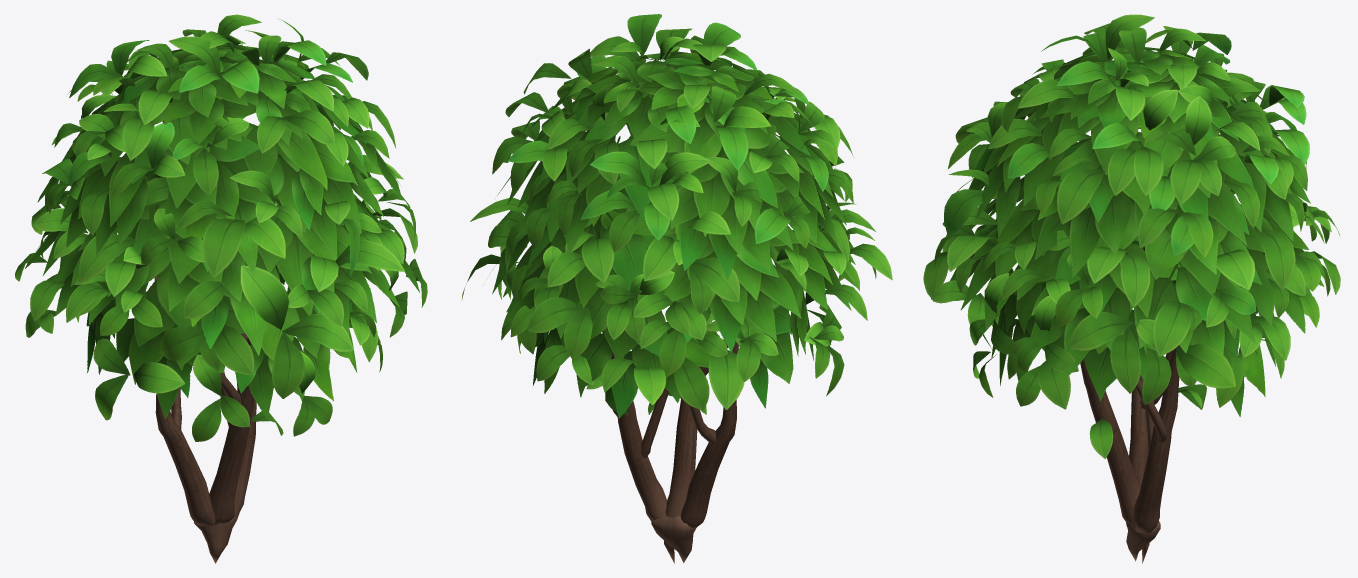
File: SE_Lilac_02c.fbx
3 renders of one model, left to right at view 1: azimuth 30°, elevation 25°; view 2: azimuth 150°, elevation 25°; view 3: azimuth 270°, elevation 25°, orthographic.
Visible parts, largest first — view 1: SE_Lilac_02c; view 2: SE_Lilac_02c; view 3: SE_Lilac_02c.
Part boxes in pixels (x1,y1,x2,y2): SE_Lilac_02c: (15, 14, 427, 563); SE_Lilac_02c: (461, 14, 892, 563); SE_Lilac_02c: (923, 14, 1340, 563).
Size of the model in its own units: 6.73 by 9.12 by 6.59.
